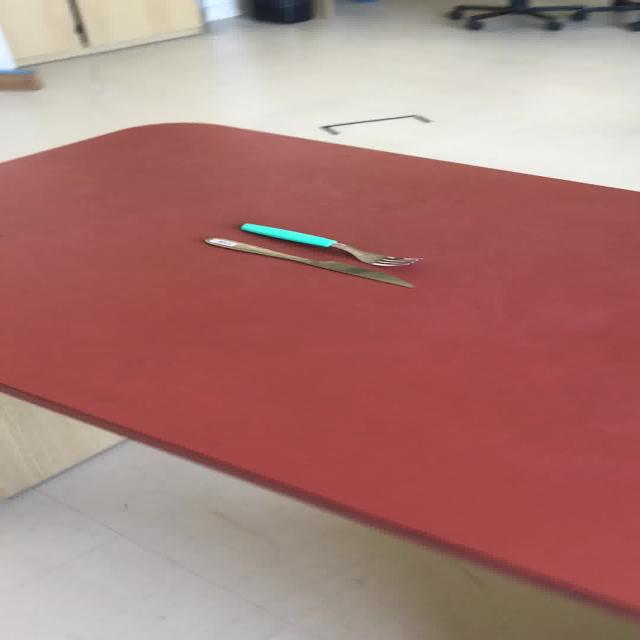fork: (237, 222, 422, 266)
knife fork: (202, 236, 414, 289)
